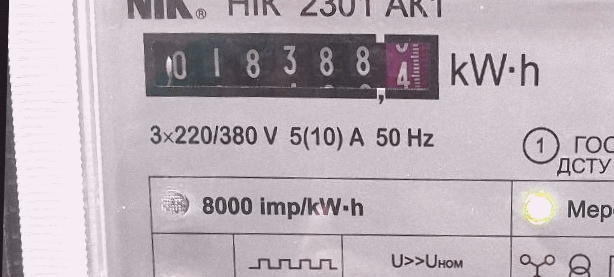0: (169, 46, 189, 82)
1: (207, 42, 226, 79)
3: (280, 41, 301, 77)
4: (392, 56, 413, 90)
8: (242, 43, 264, 80), (352, 41, 374, 78), (316, 43, 337, 79)
screen: (133, 17, 453, 115)
